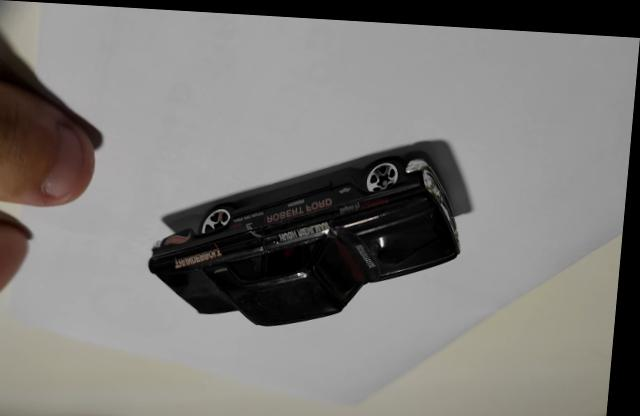01_FORD: (152, 134, 475, 322)
